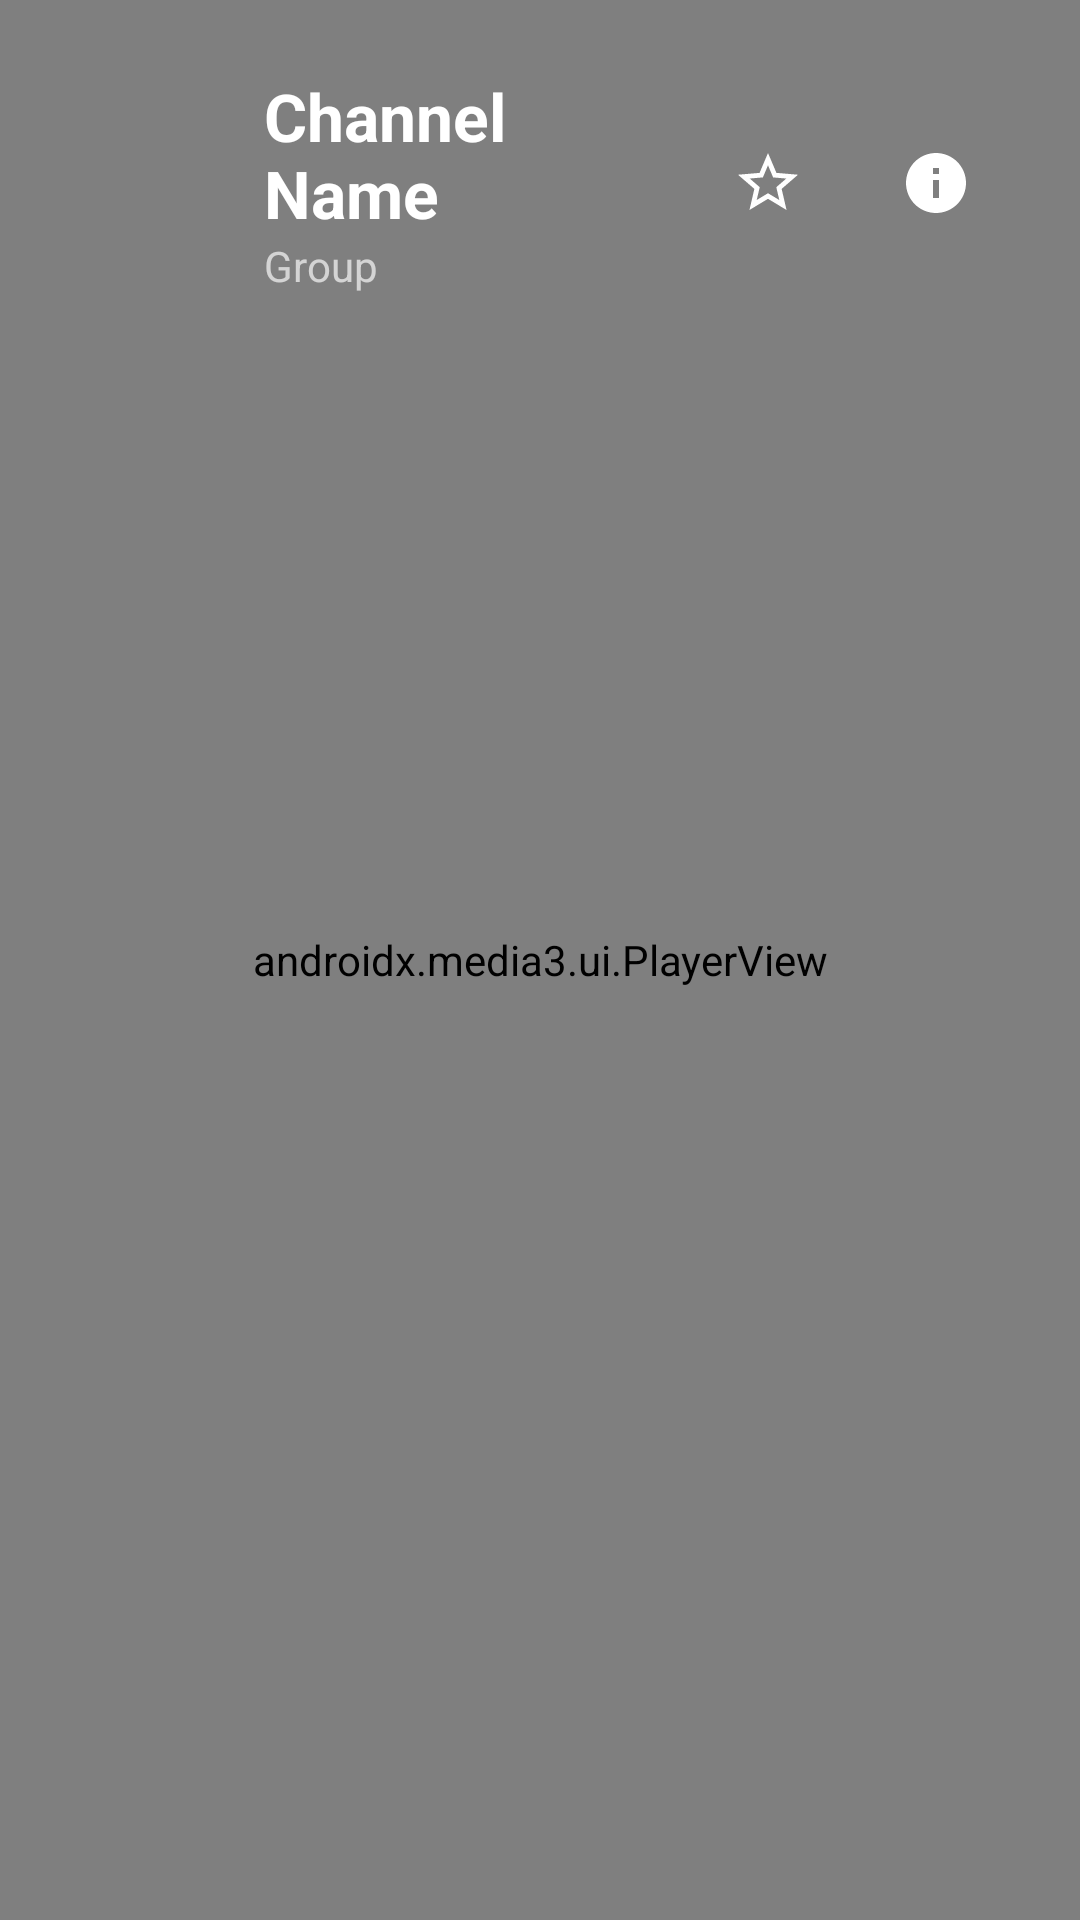

Point at icon controls on the screen. Image size 1080px x 1920px, points as (x,y).
Favorite: (768,182)
Info: (936,183)
